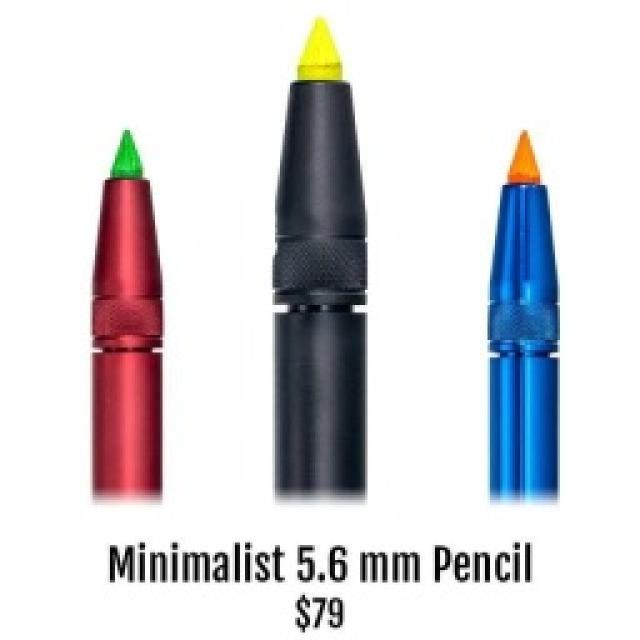pencil: (268, 12, 370, 500), (482, 125, 562, 503), (85, 125, 165, 503)
